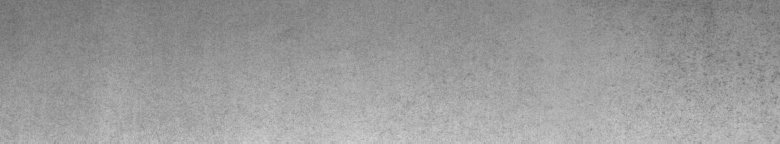ib: (702, 52, 776, 104)
